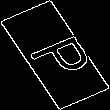P_NE: (16, 27, 94, 83)
